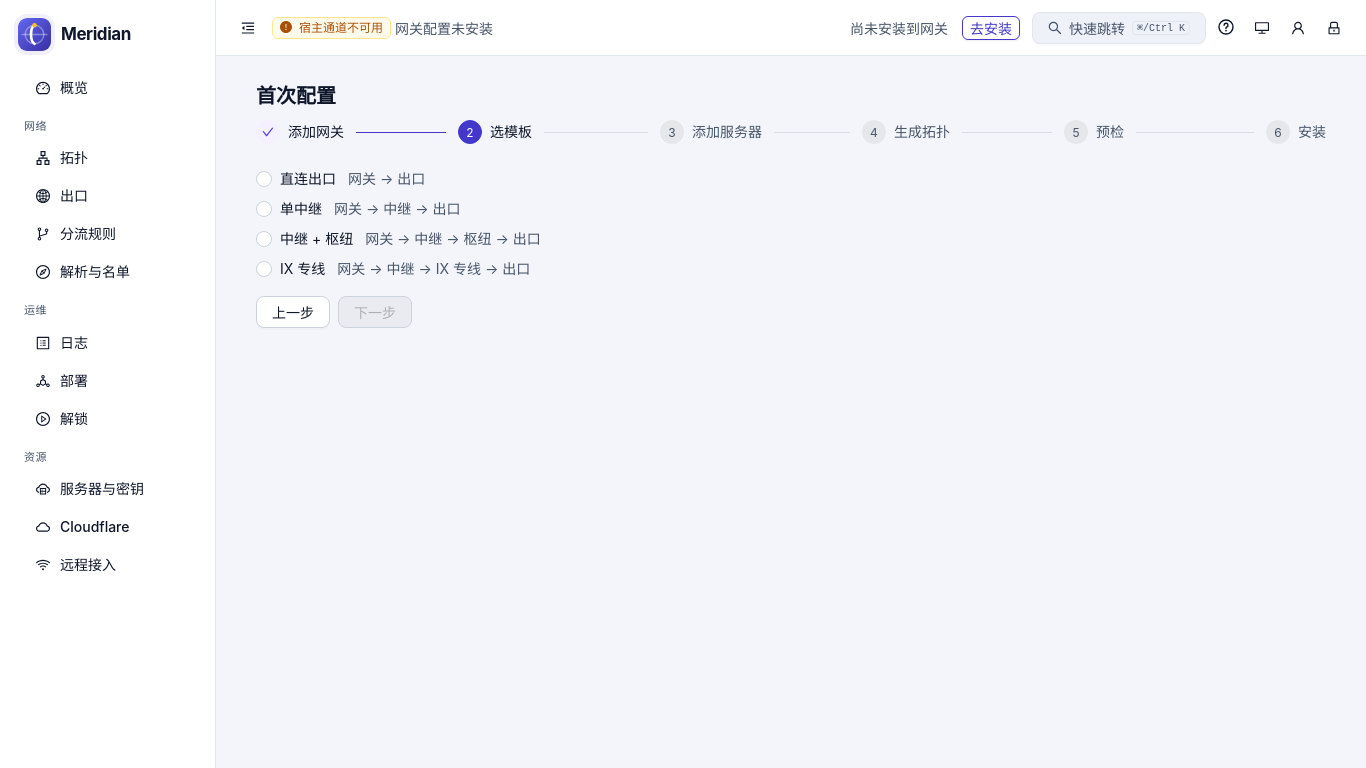
Test: setup wizard › template step lists the templates and saves the choice; back keeps the earlier answers
Expected: the text "直连出口" is shown, [280,170,336,187]
Click the button "上一步" at (293, 312), box [256,296,330,328]
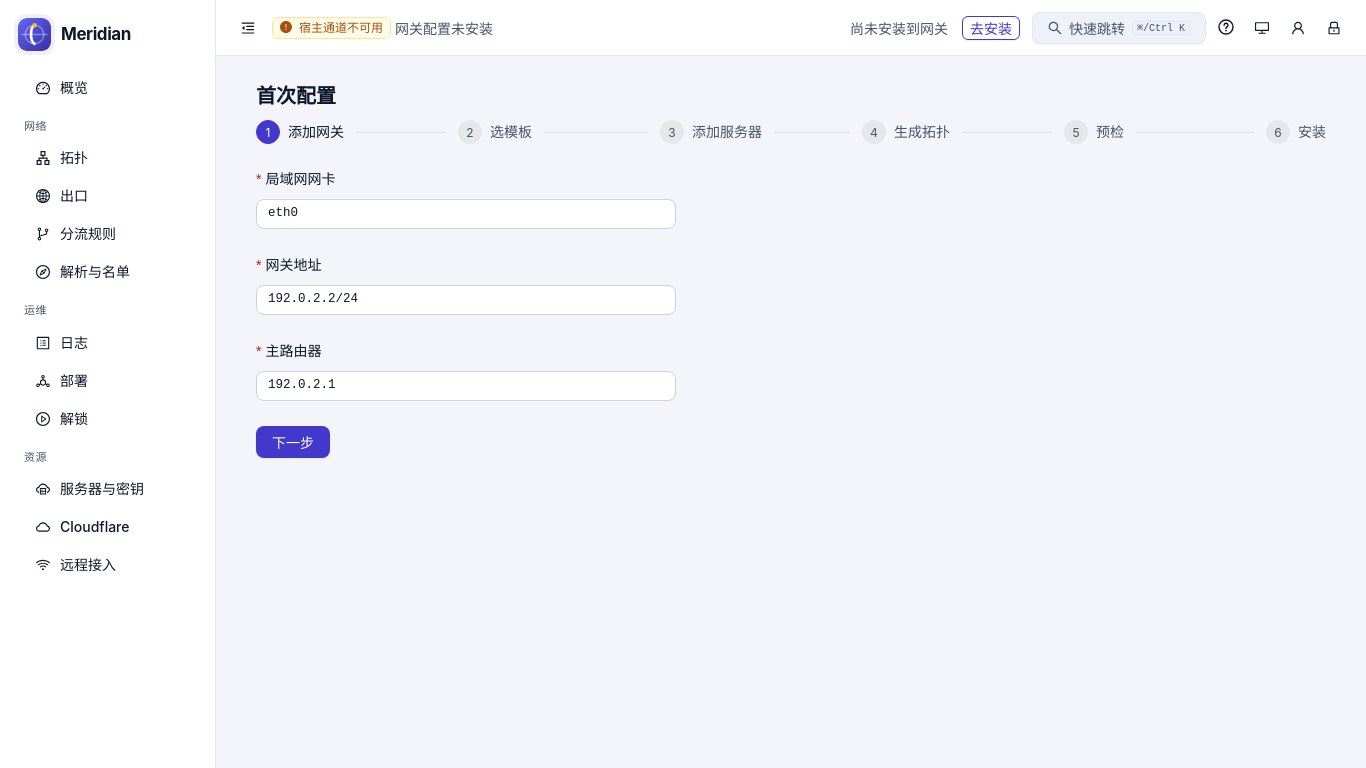
Expected: the element with test id "wizard-step-gateway" is shown, [256,170,676,458]
Expected: the field labelled "局域网网卡" holds "eth0", [256,199,676,229]
Click the button "下一步" at (293, 442), box [256,426,330,458]
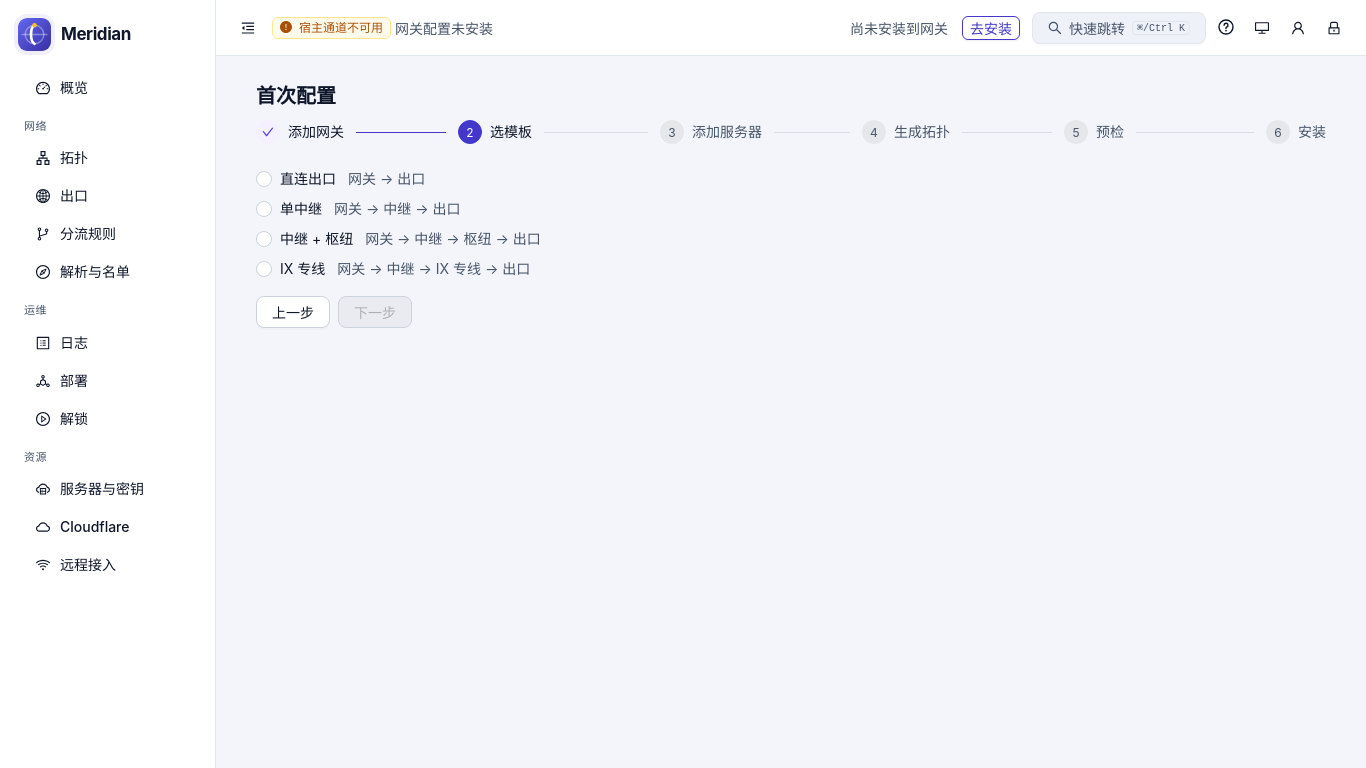
Expected: the text "直连出口" is shown
Click the text "直连出口" at (308, 178), box [280,170,336,187]
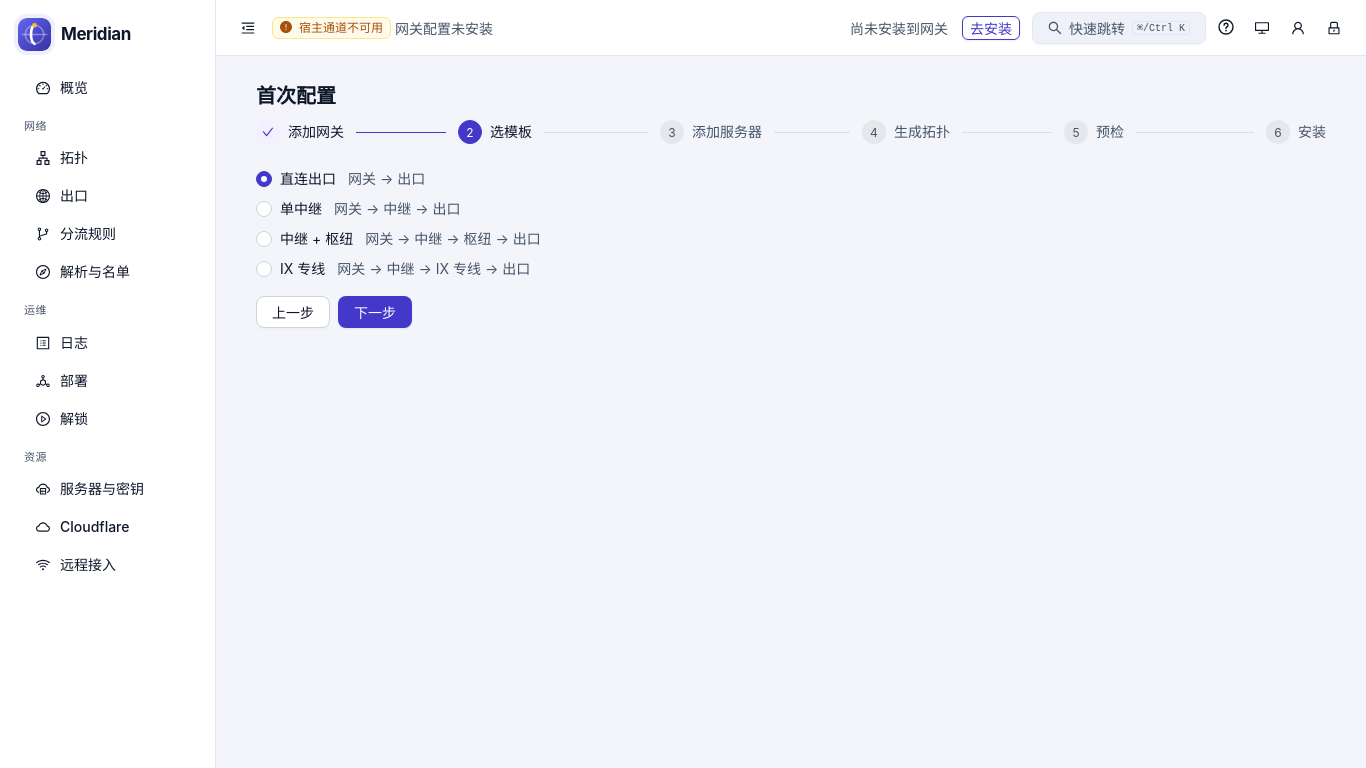
Click the button "下一步" at (375, 312), box [338,296,412,328]
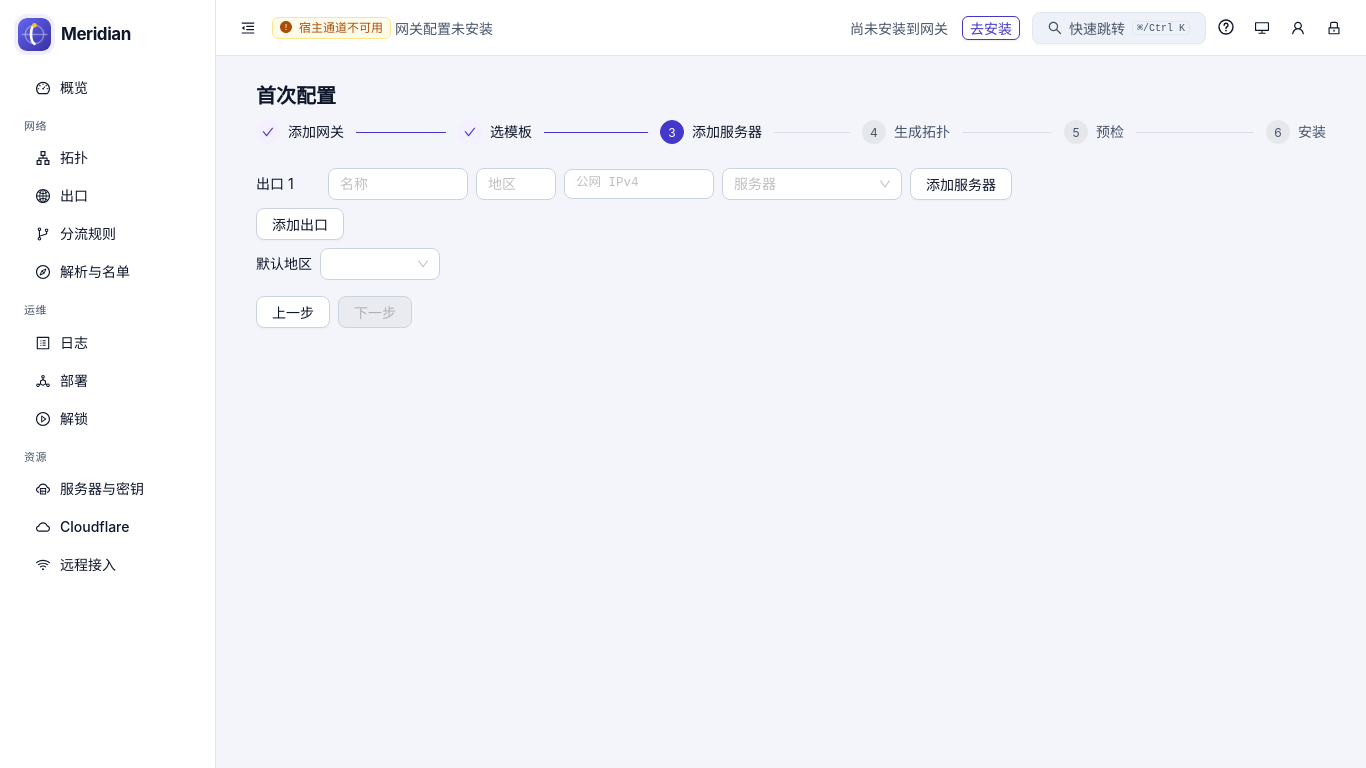
Expected: the element with test id "wizard-step-servers" is shown, [256,168,1012,328]
